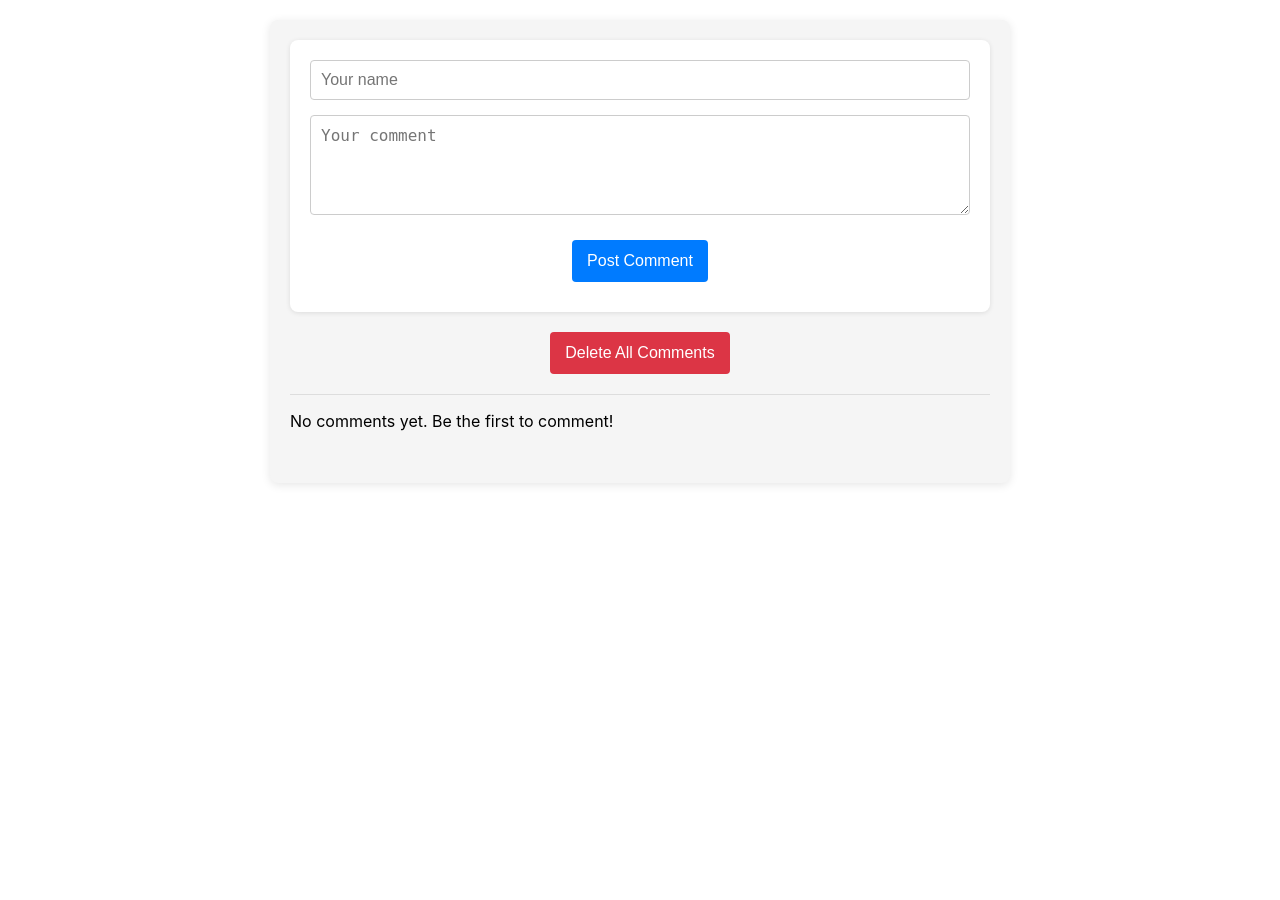
Test: CommentsFeed Component › should handle deletion of all comments
Click the button "Delete All Comments": (640, 353) [550,332,730,374]
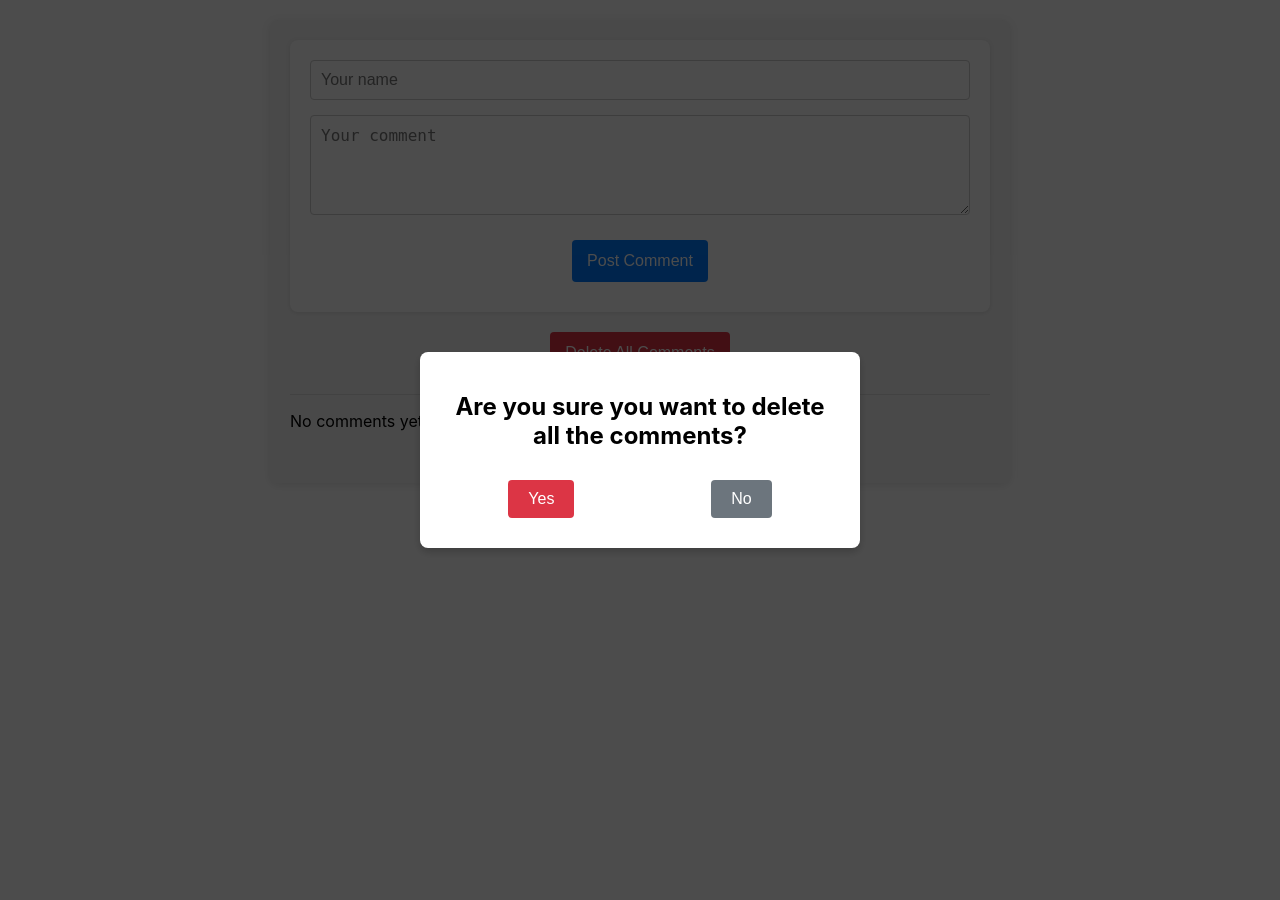
Expected: the heading "Are you sure you want to delete all the comments?" is shown, [440,392,840,450]
Click the button "Yes": (541, 499) [508,480,574,518]
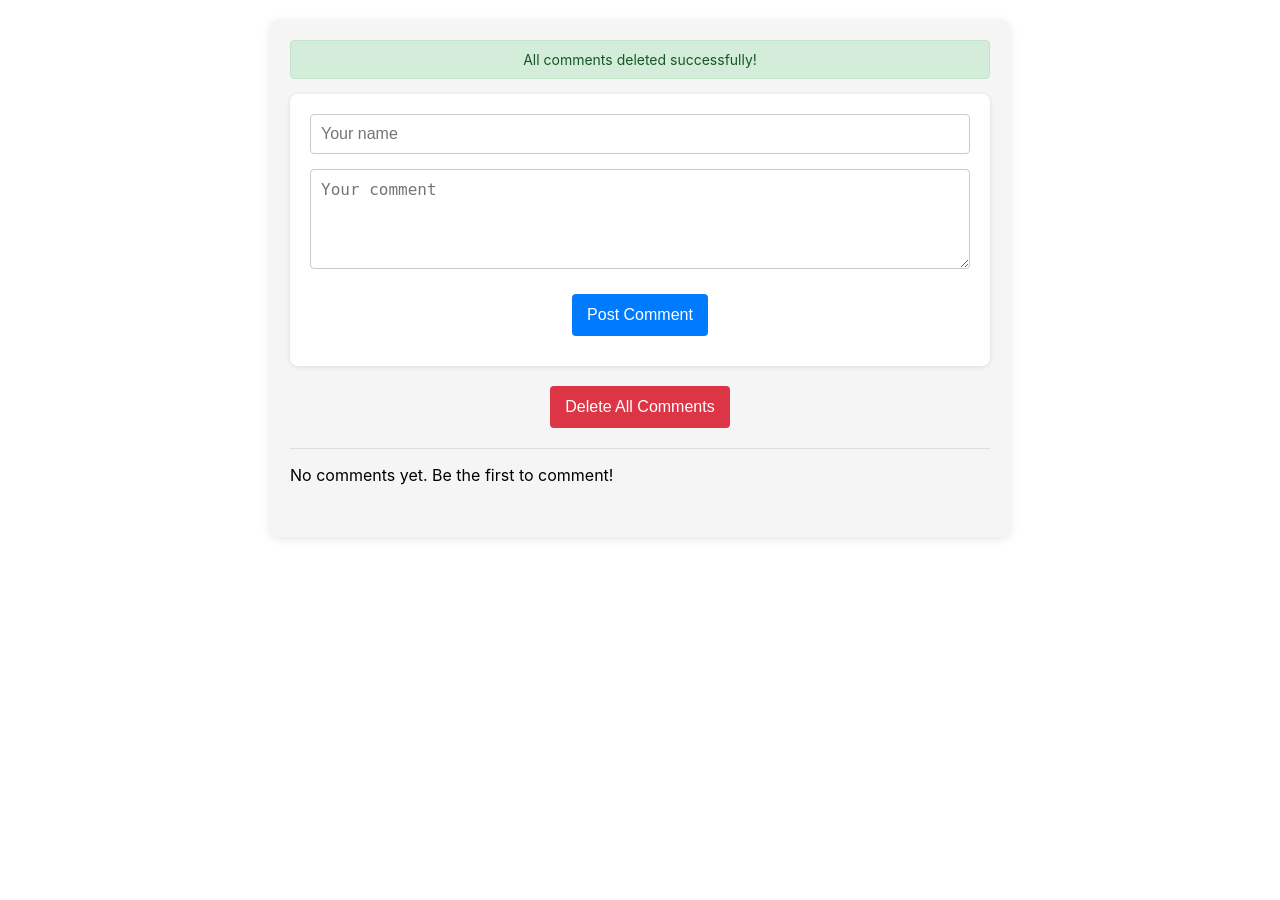
Expected: the text "All comments deleted successfully!" is shown, [290,40,990,79]
